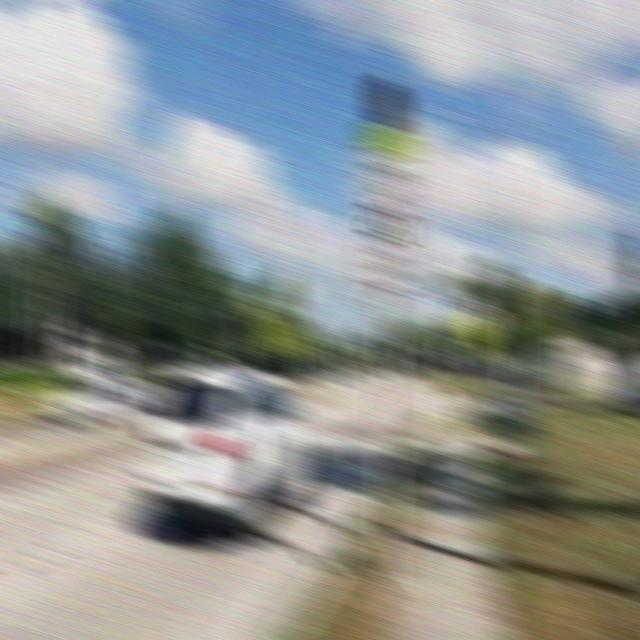speedLimit20: (362, 156, 413, 248)
